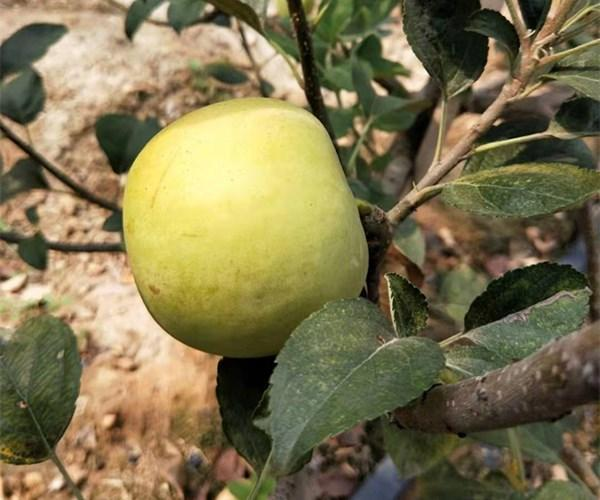apple: (119, 96, 366, 361)
